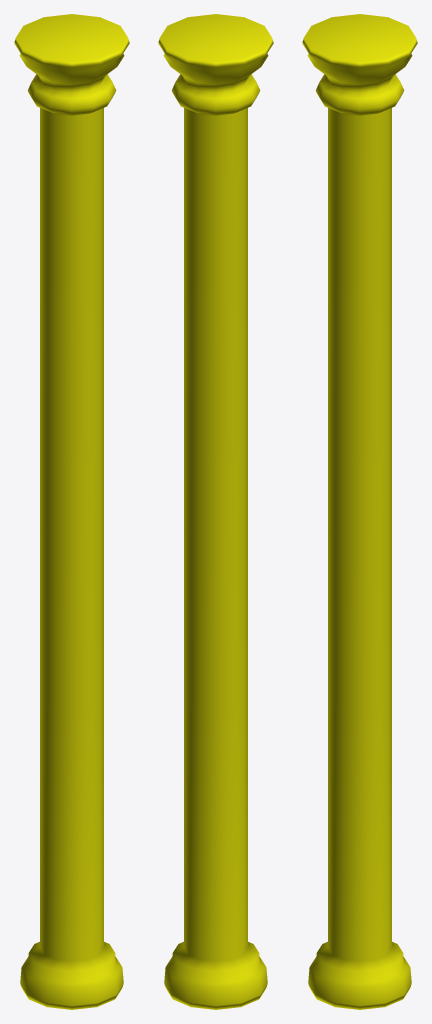
The model's file is S_Pillar_04.fbx.
3 renders of one model, left to right at view 1: azimuth 90°, elevation 25°; view 2: azimuth 150°, elevation 25°; view 3: azimuth 270°, elevation 25°, orthographic.
Visible parts, largest first — view 1: S_Pillar_04; view 2: S_Pillar_04; view 3: S_Pillar_04.
Part boxes in pixels (bbox=[...]): S_Pillar_04: bbox=[14, 14, 129, 1009]; S_Pillar_04: bbox=[158, 14, 273, 1009]; S_Pillar_04: bbox=[302, 14, 417, 1009].
Size of the model in its own units: 36.02 by 327 by 36.02.
